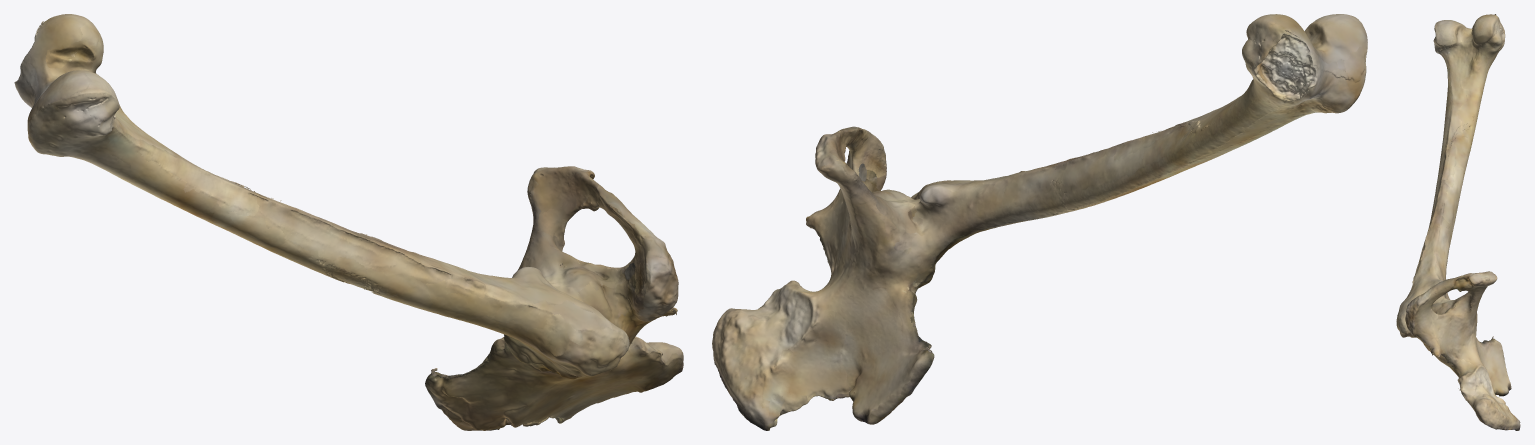
The model's file is pelvis-web.glb.
The picture shows the model from 3 angles, left to right: view 1: azimuth 30°, elevation 25°; view 2: azimuth 150°, elevation 25°; view 3: azimuth 270°, elevation 25°; orthographic projection. The views are drawn at different scales.
Visible parts, largest first — view 1: Node; view 2: Node; view 3: Node.
Boxes of the visible parts, x1=… form: Node: x1=14, y1=14, x2=683, y2=430; Node: x1=712, y1=14, x2=1367, y2=430; Node: x1=1396, y1=14, x2=1520, y2=430.
Size of the model in its own units: 1.49e+07 by 1.16e+07 by 4617673.
Materials: 1 (1 with a texture image).
